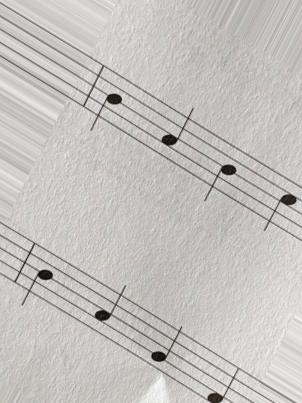note: (87, 275, 129, 352), (155, 99, 195, 177), (146, 309, 185, 388), (87, 56, 125, 135), (17, 234, 55, 312), (262, 162, 300, 240), (201, 127, 238, 207), (204, 347, 242, 402)
